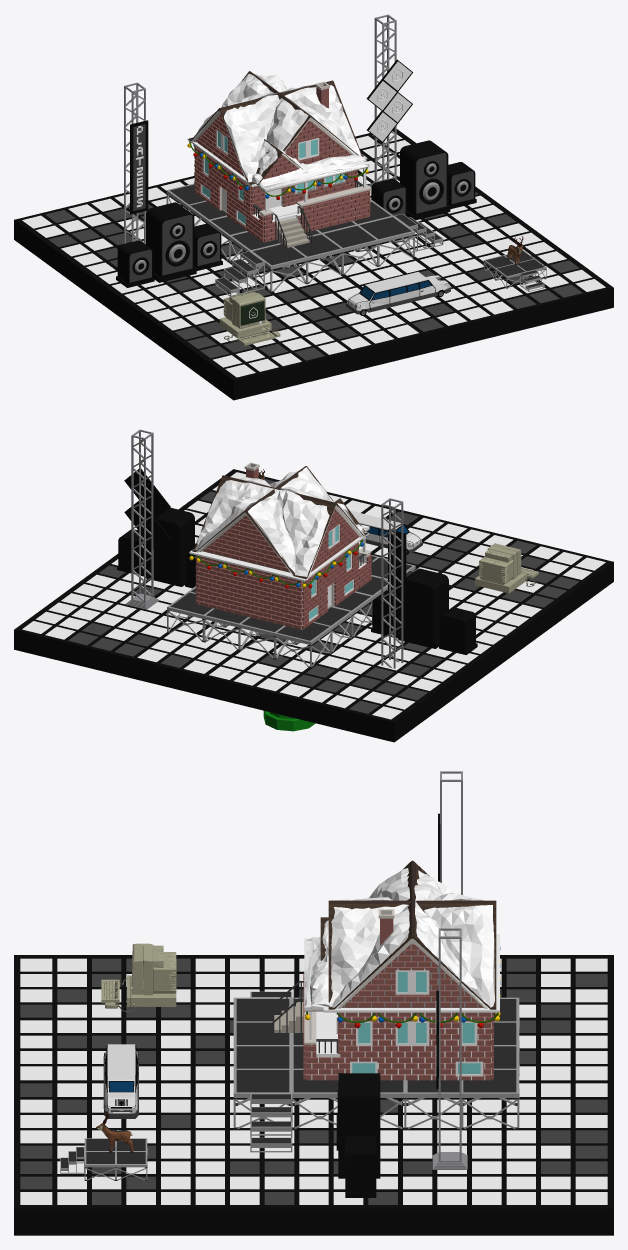
The picture shows the model from 3 angles, top to bottom: view 1: azimuth 30°, elevation 25°; view 2: azimuth 150°, elevation 25°; view 3: azimuth 270°, elevation 25°; orthographic projection. The views are drawn at different scales.
Parts seen in each view (by area): view 1: Cube.008, Cube.1419, VEHICLES_LIMOUSINE, OBJRANDOM_RETRO_PC; view 2: Cube.008, Cube.1419, OBJRANDOM_RETRO_PC, VEHICLES_LIMOUSINE, UNDERGROUND_PIPES; view 3: Cube.008, Cube.1419, OBJRANDOM_RETRO_PC, VEHICLES_LIMOUSINE.
Boxes of the visible parts, x1,y1,x2,y2 form: Cube.008: (14, 14, 613, 400); Cube.1419: (187, 71, 371, 248); VEHICLES_LIMOUSINE: (345, 272, 450, 315); OBJRANDOM_RETRO_PC: (219, 291, 280, 345); Cube.008: (14, 429, 613, 742); Cube.1419: (189, 462, 372, 629); OBJRANDOM_RETRO_PC: (475, 543, 538, 593); VEHICLES_LIMOUSINE: (350, 510, 423, 554); UNDERGROUND_PIPES: (263, 711, 315, 731); Cube.008: (14, 771, 613, 1235); Cube.1419: (272, 860, 500, 1080); OBJRANDOM_RETRO_PC: (101, 943, 176, 1011); VEHICLES_LIMOUSINE: (103, 1044, 138, 1118).
Bounding box in the file's own units: 4000 × 2555 × 4000.
45 materials, 1 textured.
